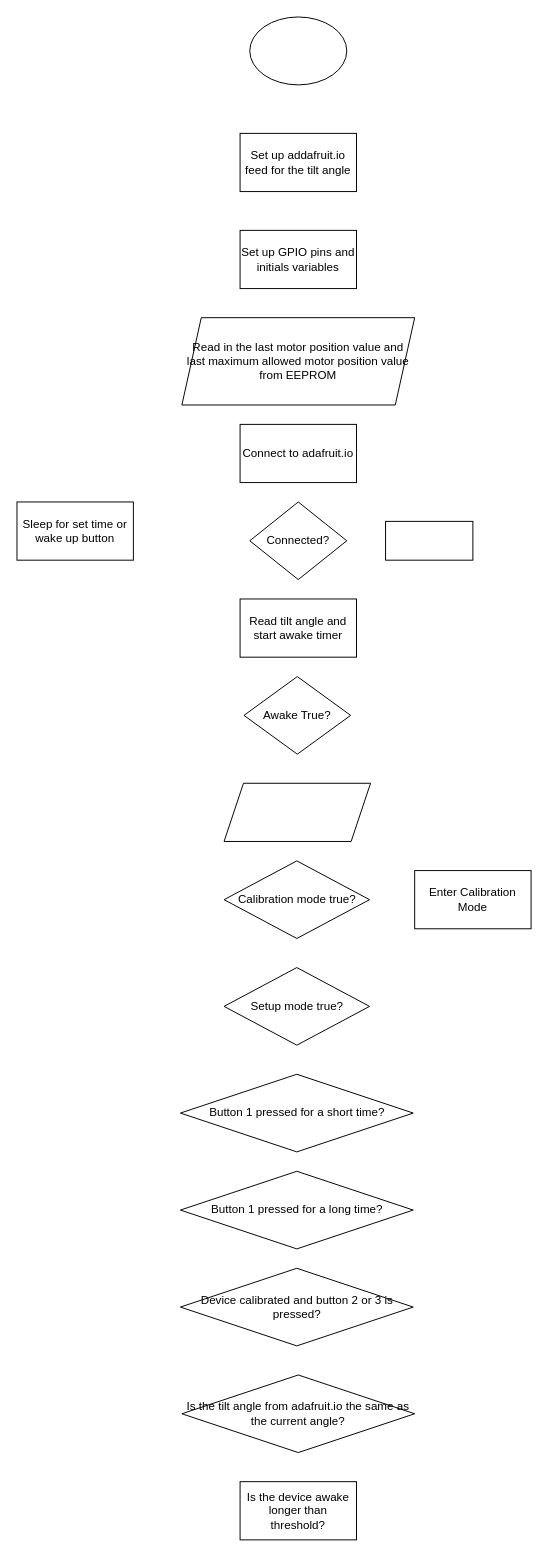
Image size: 548x1557. Some labels were removed from this diagram. Here are the shapes that lost their labels. From the top down, the centre of each, then its label:
pixel 298 50: Start
pixel 429 540: Blink LED
pixel 297 811: Turn on LED and read button presses
